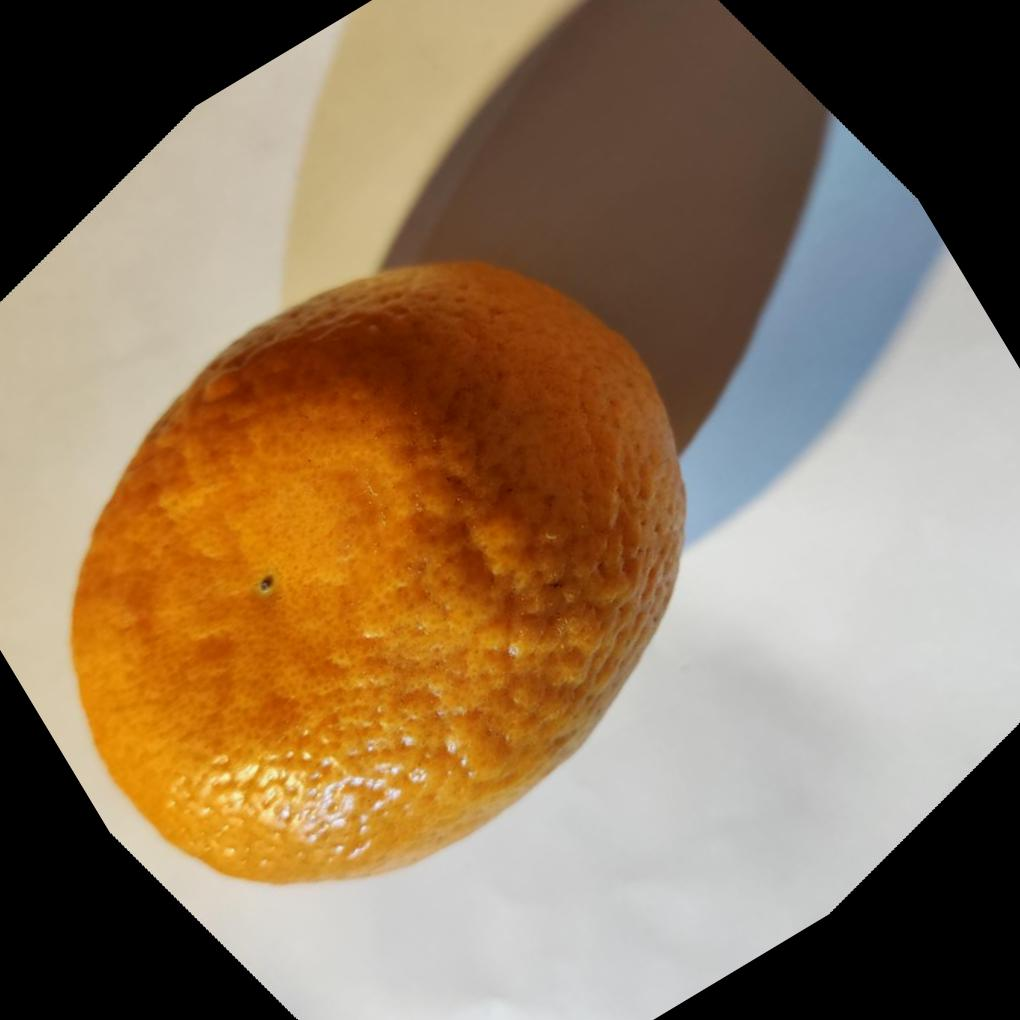FreshGuava: (64, 252, 687, 885)
